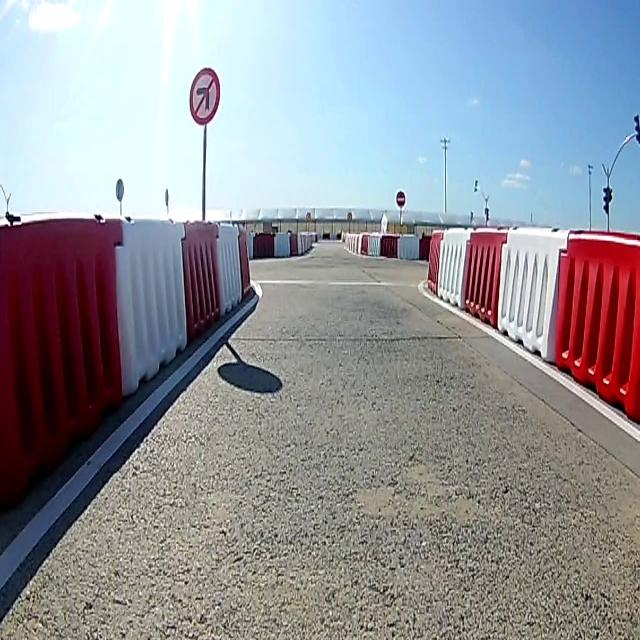girisyok: (396, 190, 406, 207)
soladonulmez: (189, 68, 221, 126)
